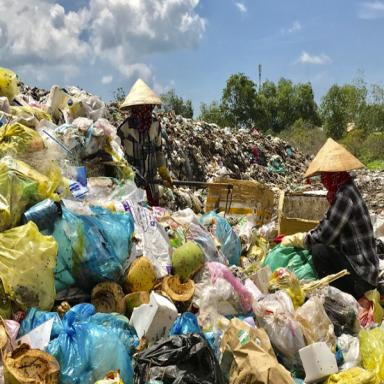plasticbag: (254, 270, 374, 382), (53, 208, 126, 286), (50, 314, 134, 380), (178, 259, 256, 329), (4, 135, 66, 220), (0, 230, 58, 308), (142, 333, 211, 384), (74, 113, 130, 171), (258, 237, 316, 290), (192, 211, 244, 261), (167, 307, 205, 340)
